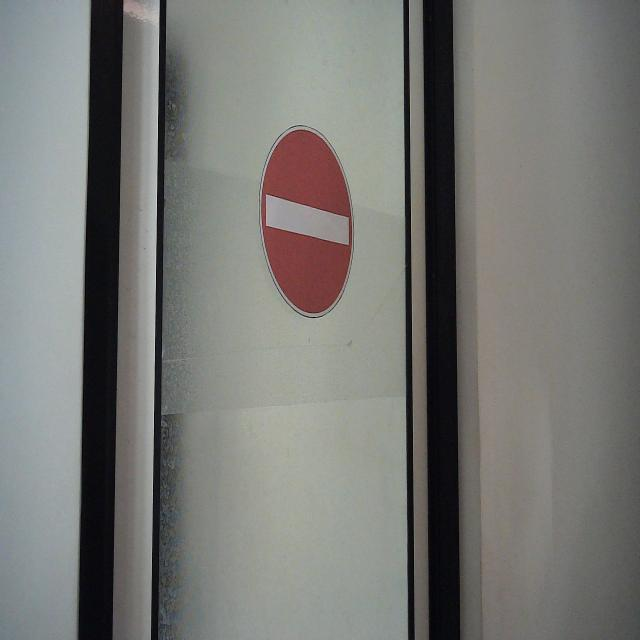no_entry: (258, 122, 356, 323)
